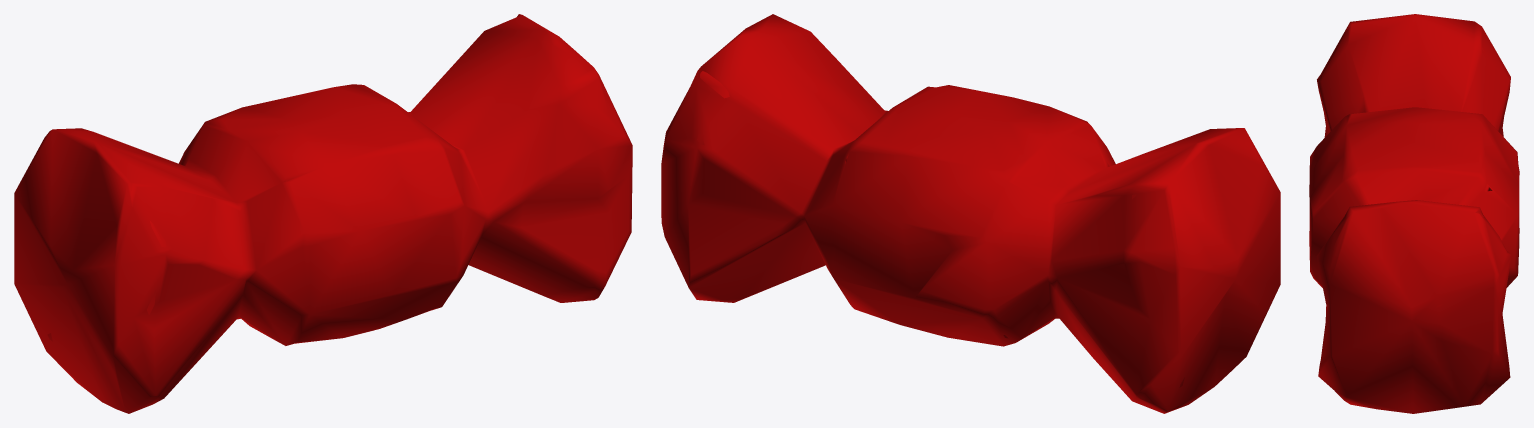
Rendered from gen3d-wrapped-candy-lod1.glb.
The picture shows the model from 3 angles, left to right: view 1: azimuth 30°, elevation 25°; view 2: azimuth 150°, elevation 25°; view 3: azimuth 270°, elevation 25°; orthographic projection. The views are drawn at different scales.
Parts seen in each view (by area): view 1: part_0; view 2: part_0; view 3: part_0.
Part boxes in pixels (x1=…): part_0: x1=14, y1=14, x2=632, y2=413; part_0: x1=661, y1=14, x2=1280, y2=413; part_0: x1=1309, y1=14, x2=1519, y2=413.
Bounding box in the file's own units: 2.13 × 0.9979 × 0.8936.
